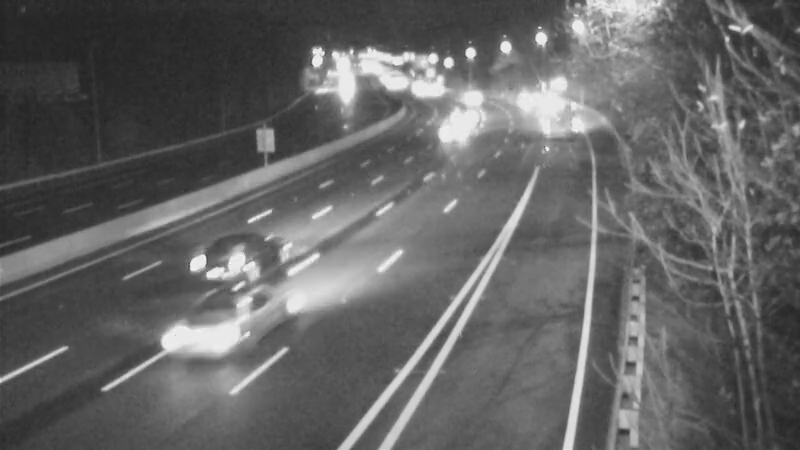vehicle: (145, 278, 255, 388), (183, 222, 263, 302), (498, 76, 548, 126), (441, 71, 491, 121), (441, 92, 491, 142), (434, 109, 484, 159), (526, 89, 576, 139)
